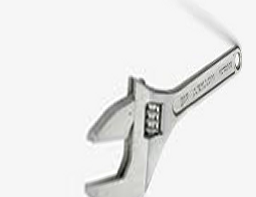Wrench: (83, 47, 247, 197)
